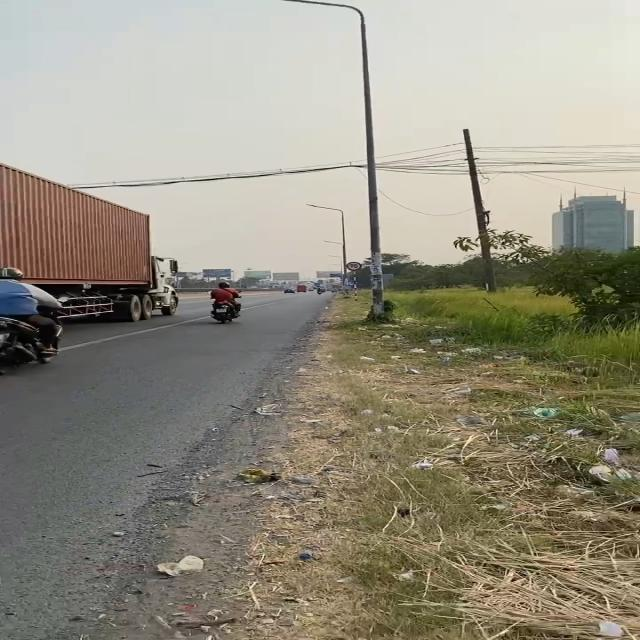127-toc-do-toi-da-70: (346, 261, 362, 271)
